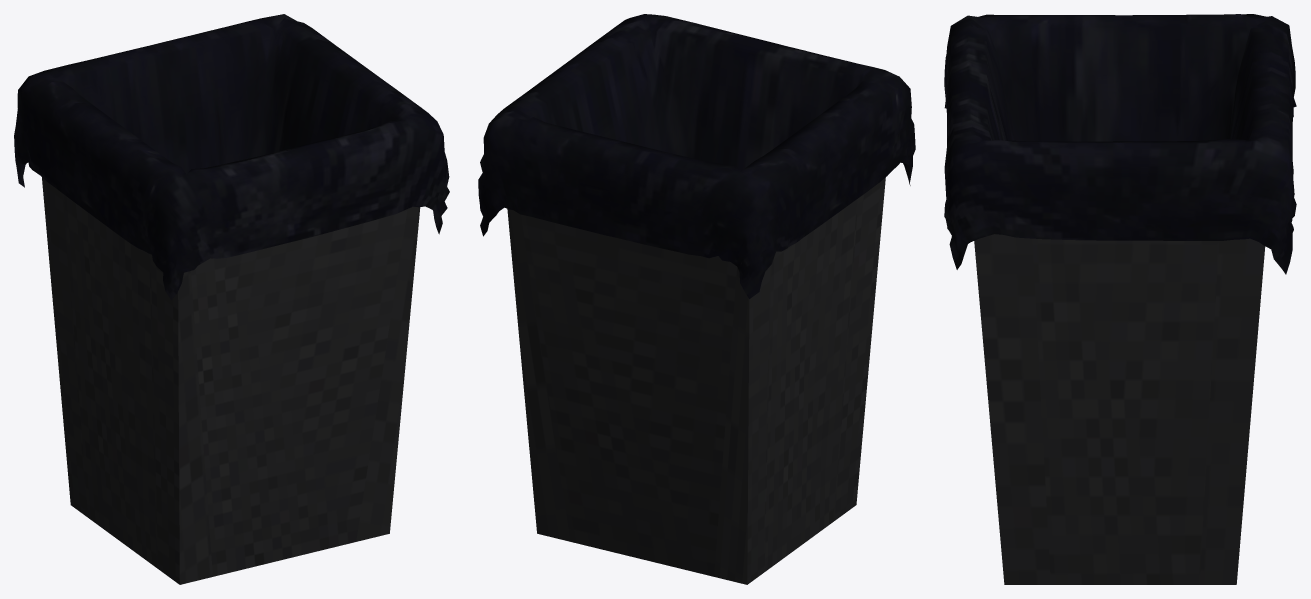
Rendered from trash-bin.glb.
3 views of the same model, side by side, from view 1: azimuth 30°, elevation 25°; view 2: azimuth 150°, elevation 25°; view 3: azimuth 270°, elevation 25° (orthographic). The views are drawn at different scales.
Visible parts, largest first — view 1: musorka; view 2: musorka; view 3: musorka.
Part boxes in pixels (x1=…): musorka: x1=14, y1=14, x2=449, y2=584; musorka: x1=478, y1=14, x2=915, y2=584; musorka: x1=944, y1=14, x2=1296, y2=584.
Size of the model in its own units: 0.5526 by 0.7746 by 0.5462.
Materials: 1 (1 with a texture image).
